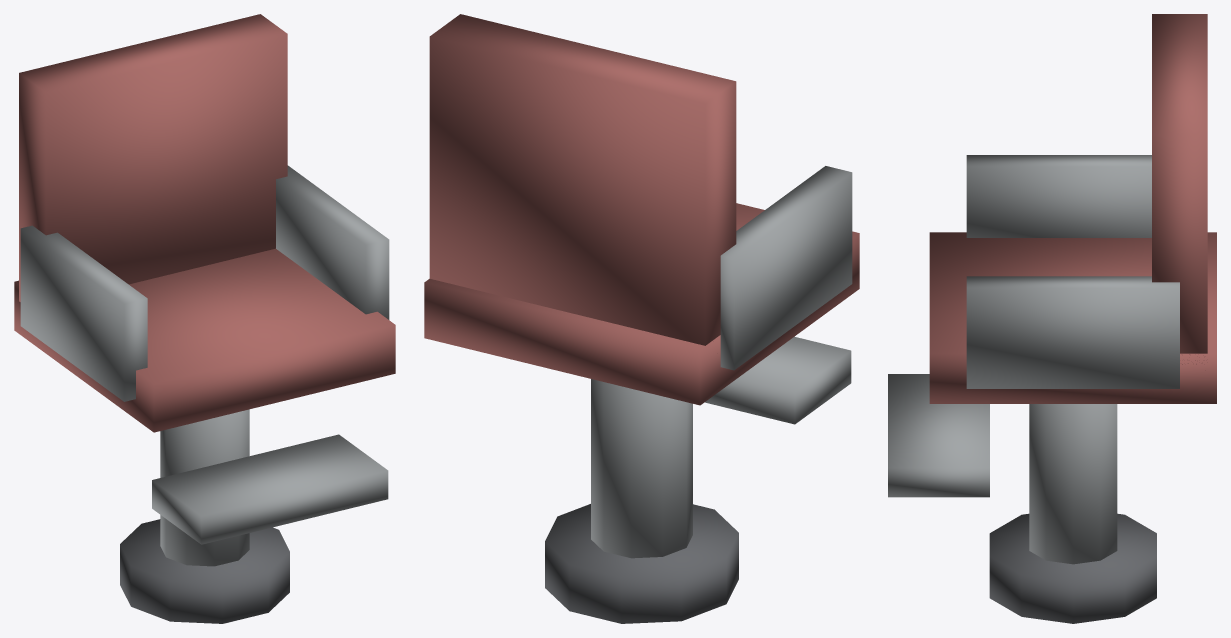
File: barber_chair.glb
3 renders of one model, left to right at view 1: azimuth 30°, elevation 25°; view 2: azimuth 150°, elevation 25°; view 3: azimuth 270°, elevation 25°, orthographic. The views are drawn at different scales.
Parts seen in each view (by area): view 1: world; view 2: world; view 3: world.
Part boxes in pixels (box(x1,y1,x2,y2)): world: box(14, 14, 395, 623); world: box(424, 14, 859, 623); world: box(888, 14, 1216, 623).
Bounding box in the file's own units: 0.68 × 1.22 × 0.71.
